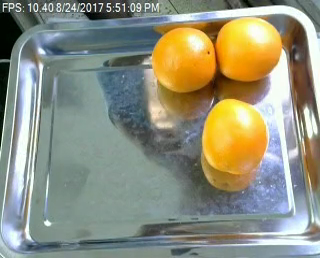Orange: (201, 97, 269, 175), (215, 16, 282, 81), (152, 25, 216, 92)
